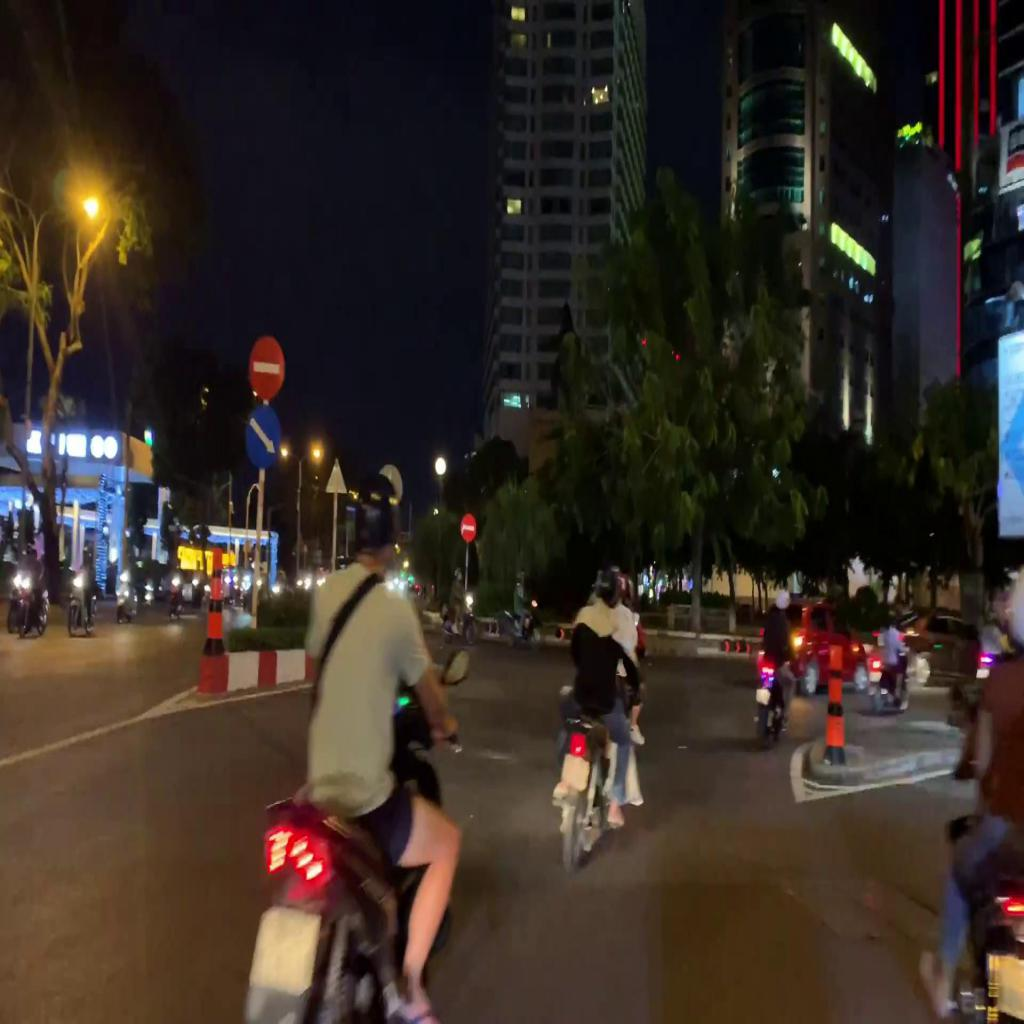cam_xe_di_nguoc_chieu: (247, 336, 284, 401), (460, 512, 476, 542)
huong_phai_di_vuot_chuong_ngai_vat_phai: (242, 403, 284, 471)
